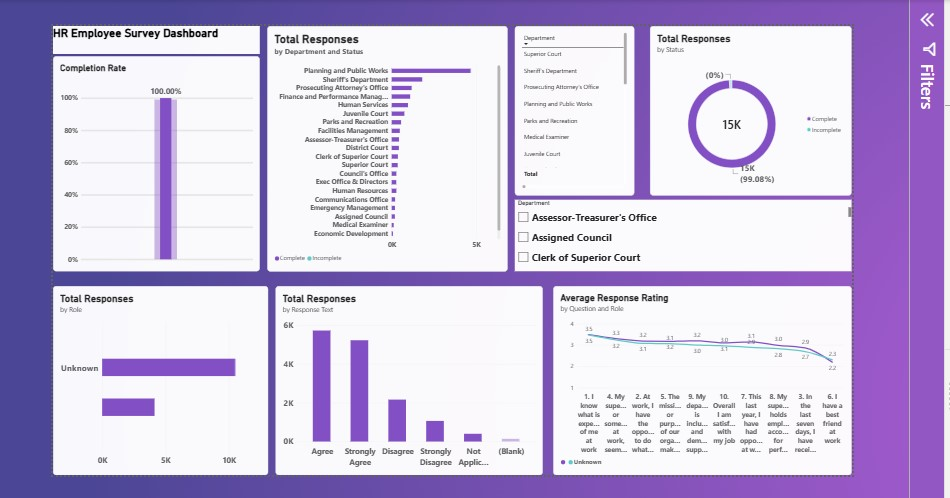

The page's visual inventory and layout, read from the dashboard file:
{"tool":"powerbi","page":{"name":"Page 1","canvas":[1920,1080],"ordinal":0},"visuals":[{"type":"clusteredColumnChart","fields":{"Y":["Data Dictionary.Completion Rate"]},"box":[0,72.5,497.5,517.5],"z":0},{"type":"donutChart","fields":{"Category":["HR Survey Reponses.Status"],"Y":["HR Survey Reponses.Total Responses"]},"box":[1435,0,485,407.5],"z":1000},{"type":"barChart","fields":{"Category":["HR Survey Reponses.Department"],"Series":["HR Survey Reponses.Status"],"Y":["HR Survey Reponses.Total Responses"]},"box":[515,0,577.5,590],"z":2000},{"type":"clusteredBarChart","fields":{"Category":["HR Survey Reponses.Role"],"Y":["HR Survey Reponses.Total Responses"]},"box":[0,625,517.5,455],"z":3000},{"type":"slicer","fields":{"Values":["HR Survey Reponses.Department"]},"box":[1110,417.5,810,172.5],"z":4000},{"type":"clusteredColumnChart","fields":{"Category":["HR Survey Reponses.Response Text"],"Y":["HR Survey Reponses.Total Responses"]},"box":[535,625,642.5,455],"z":5000},{"type":"pivotTable","fields":{"Rows":["HR Survey Reponses.Department"],"Values":["Avg(HR Survey Reponses.Response)"]},"box":[1110,0,287.5,407.5],"z":6000},{"type":"lineChart","fields":{"Category":["HR Survey Reponses.Question"],"Series":["HR Survey Reponses.Role"],"Y":["HR Survey Reponses.Average Response Rating"]},"box":[1202.5,625,717.5,455],"z":7000},{"type":"textbox","title":"HR Employee Survey Dashboard","box":[0,0,497.5,67.5],"z":8000}]}

Visuals, with their boxes on the page's 1920x1080 design canvas (x1, y1, x2, y2). These are canvas units, not pixel positions in the 950x498 screenshot, which may show the page scaled, cropped or inside an application window:
clusteredColumnChart - Data Dictionary.Completion Rate: 0 72 498 590
donutChart - HR Survey Reponses.Status x HR Survey Reponses.Total Responses: 1435 0 1920 408
barChart - HR Survey Reponses.Department x HR Survey Reponses.Status: 515 0 1092 590
clusteredBarChart - HR Survey Reponses.Role x HR Survey Reponses.Total Responses: 0 625 518 1080
slicer - HR Survey Reponses.Department: 1110 418 1920 590
clusteredColumnChart - HR Survey Reponses.Response Text x HR Survey Reponses.Total Responses: 535 625 1178 1080
pivotTable - HR Survey Reponses.Department x Avg(HR Survey Reponses.Response): 1110 0 1398 408
lineChart - HR Survey Reponses.Question x HR Survey Reponses.Role: 1202 625 1920 1080
"HR Employee Survey Dashboard" textbox: 0 0 498 68
